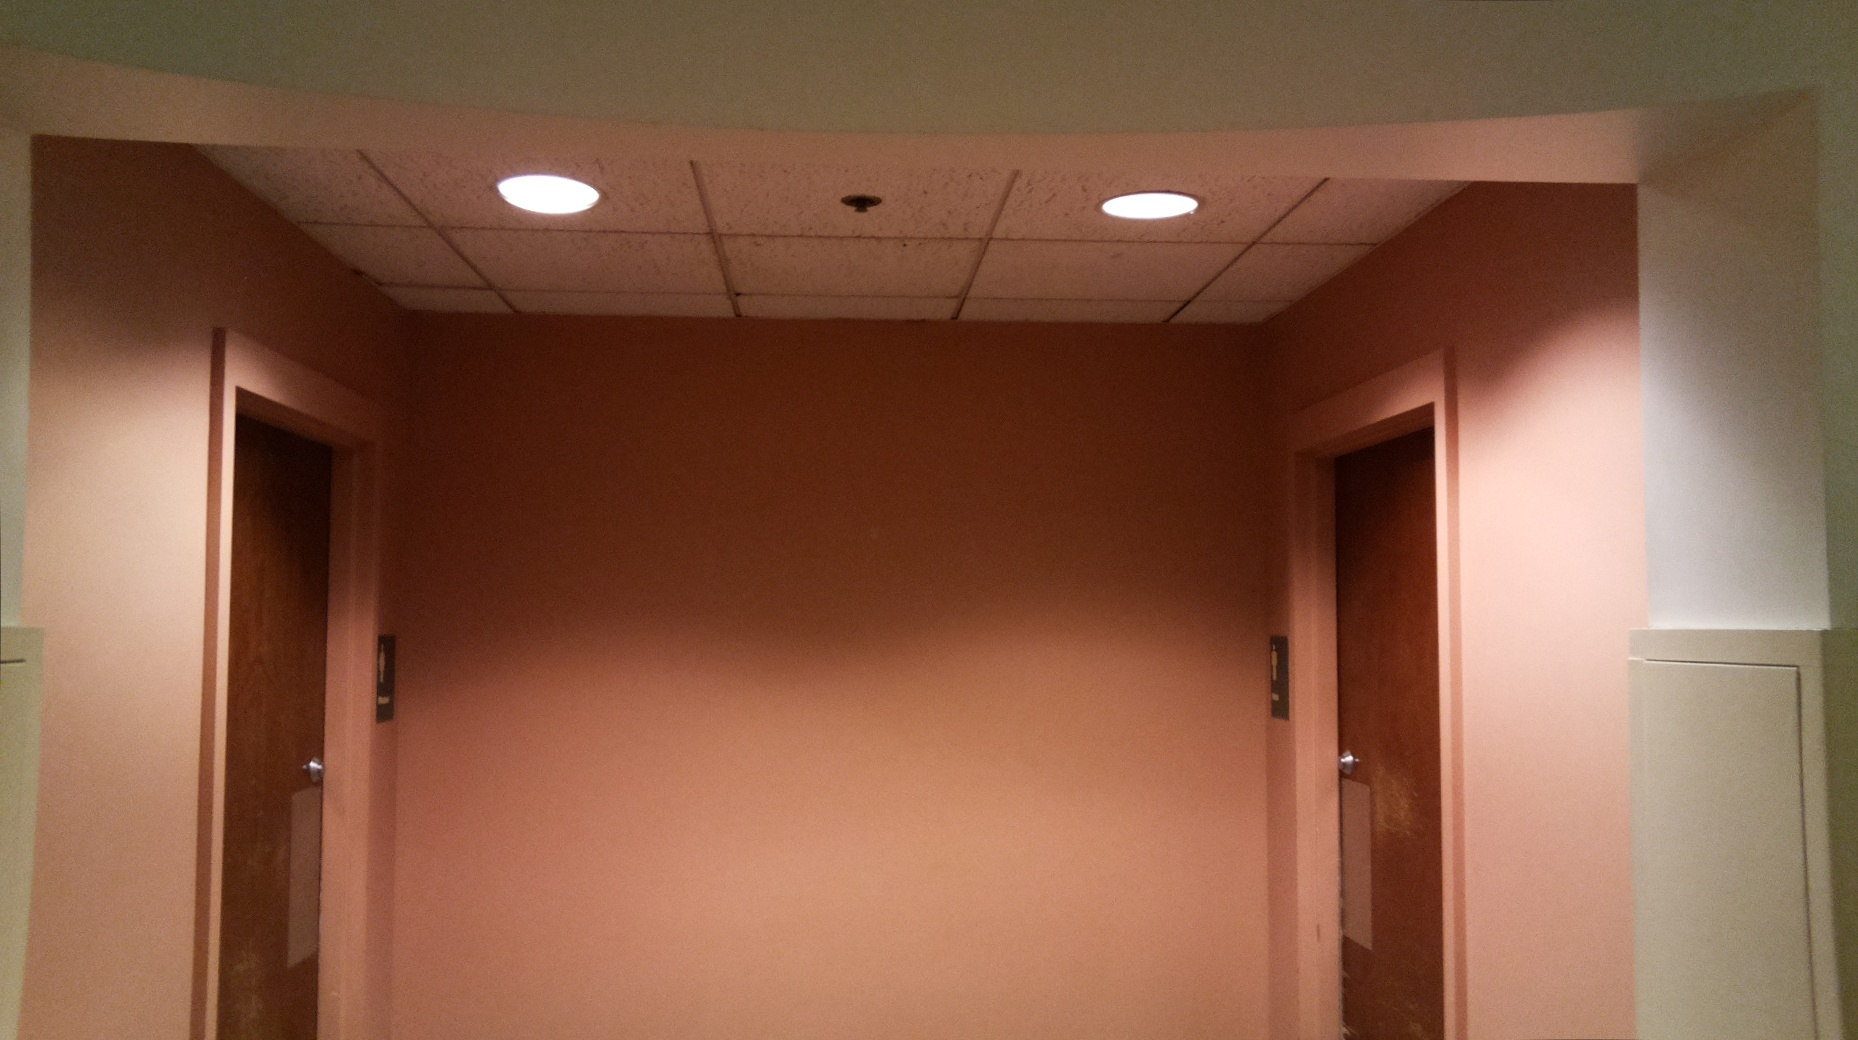bathroom sign: (373, 627, 399, 727), (1265, 630, 1291, 724)
